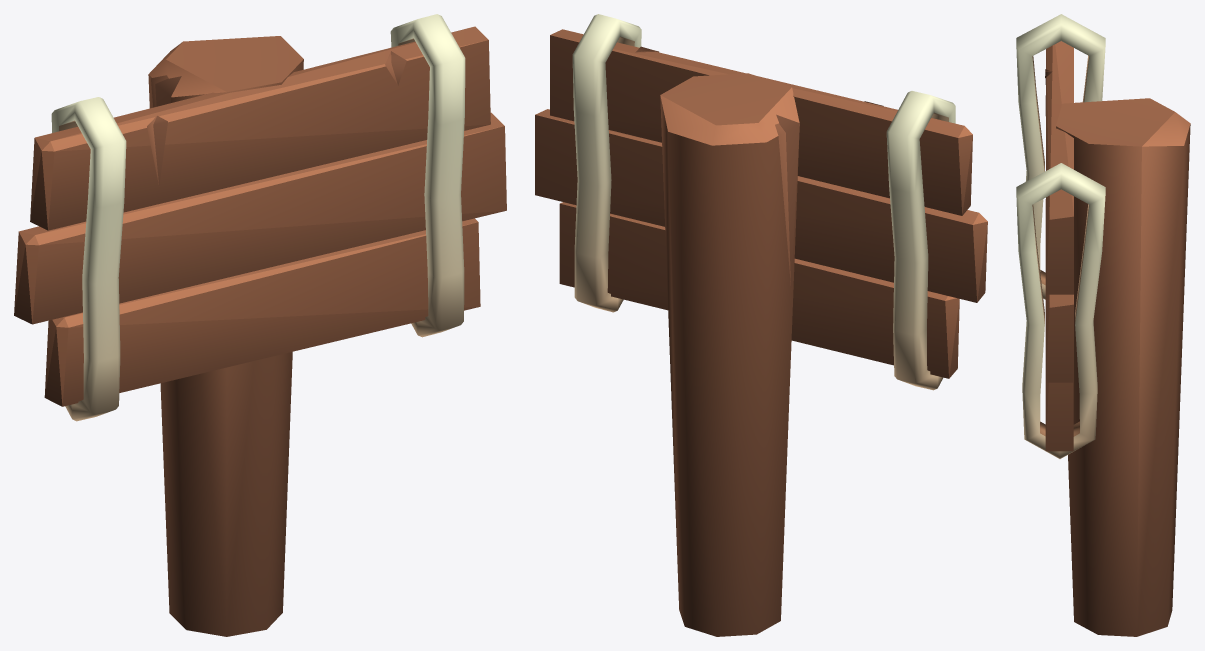
The model's file is billboard.glb.
3 views of the same model, side by side, from view 1: azimuth 30°, elevation 25°; view 2: azimuth 150°, elevation 25°; view 3: azimuth 270°, elevation 25° (orthographic). The views are drawn at different scales.
Visible parts, largest first — view 1: billboard; view 2: billboard; view 3: billboard.
Boxes of the visible parts, x1,y1,x2,y2 form: billboard: (14,14,506,636); billboard: (535,14,987,636); billboard: (1016,14,1190,636).
Size of the model in its own units: 1.17 by 1.36 by 0.4096.
1 material, 1 textured.
